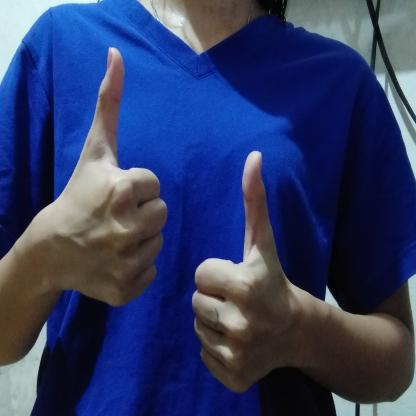which: (51, 44, 295, 408)
